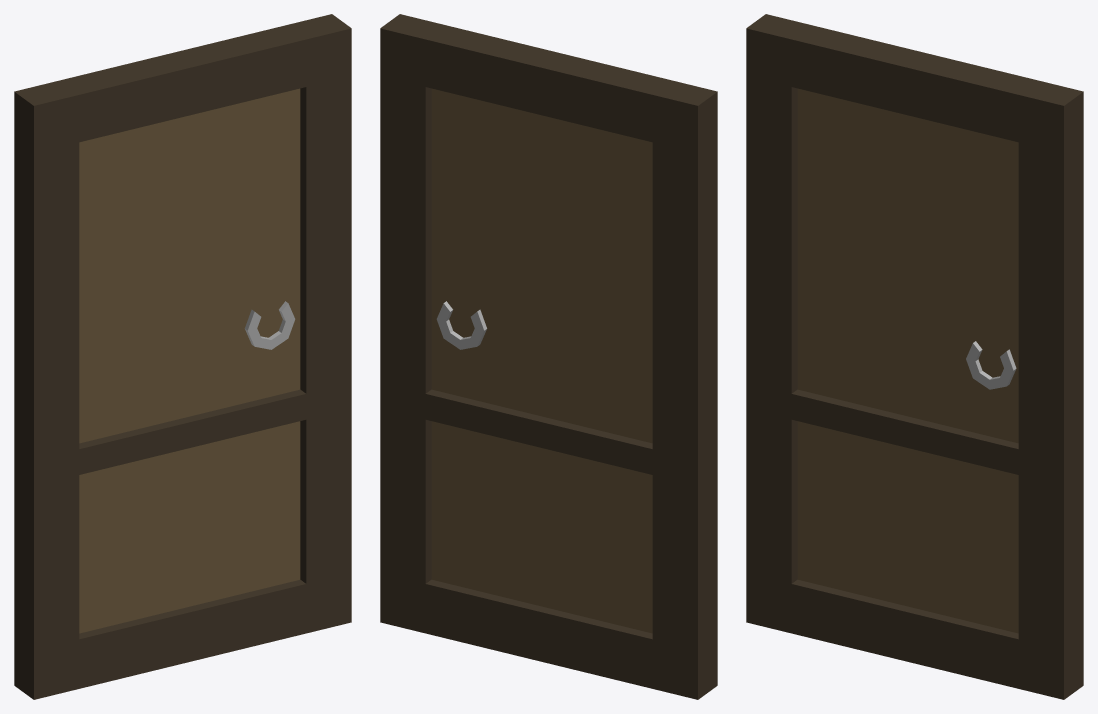
Rendered from roman_door_3.fbx.
3 renders of one model, left to right at view 1: azimuth 30°, elevation 25°; view 2: azimuth 150°, elevation 25°; view 3: azimuth 330°, elevation 25°, orthographic.
Parts seen in each view (by area): view 1: Cube.030; view 2: Cube.030; view 3: Cube.030.
Boxes of the visible parts, x1,y1,x2,y2 form: Cube.030: [14, 14, 351, 699]; Cube.030: [380, 14, 717, 699]; Cube.030: [746, 14, 1083, 699].
Size of the model in its own units: 1.4 by 2.5 by 0.15.
